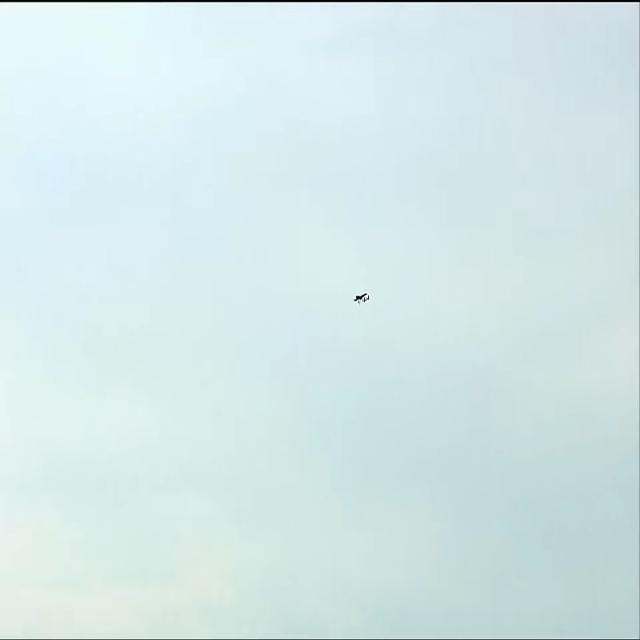iha: (352, 290, 372, 306)
